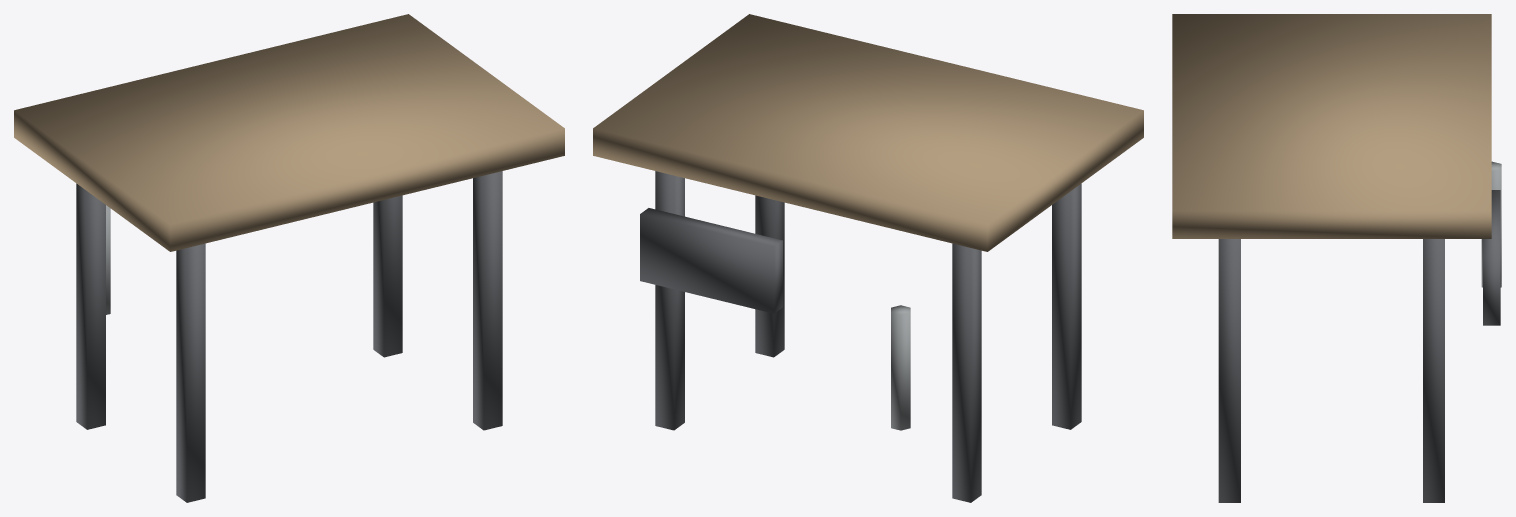
Rendered from diner_four_top__service.glb.
The picture shows the model from 3 angles, left to right: view 1: azimuth 30°, elevation 25°; view 2: azimuth 150°, elevation 25°; view 3: azimuth 270°, elevation 25°; orthographic projection. The views are drawn at different scales.
Parts seen in each view (by area): view 1: world; view 2: world; view 3: world.
Part boxes in pixels (left/top/right/bottom): world: left=14, top=14, right=564, bottom=502; world: left=593, top=14, right=1143, bottom=502; world: left=1172, top=14, right=1501, bottom=502.
Bounding box in the file's own units: 1.05 × 0.775 × 0.7427.
